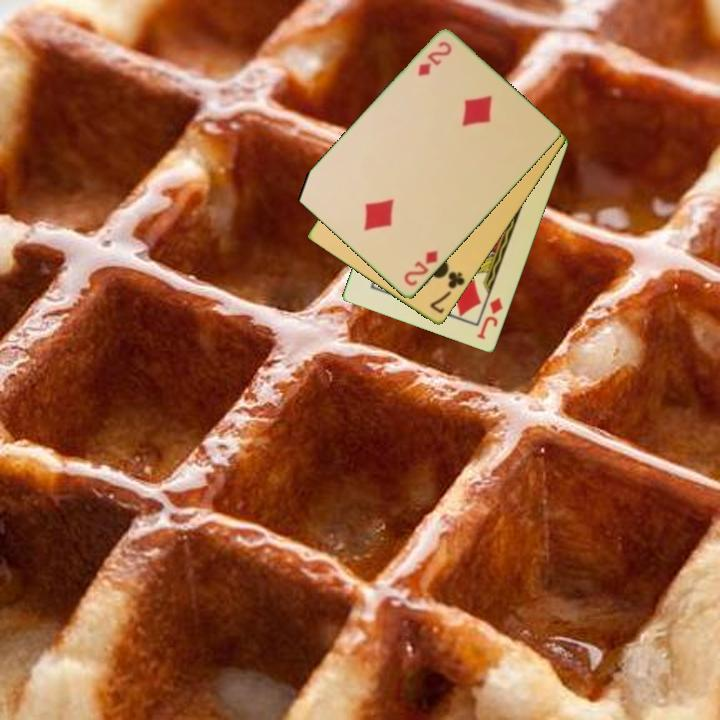2d: (400, 247, 441, 289), (414, 38, 455, 80)
7c: (426, 268, 468, 317)
Jd: (473, 294, 506, 342)
